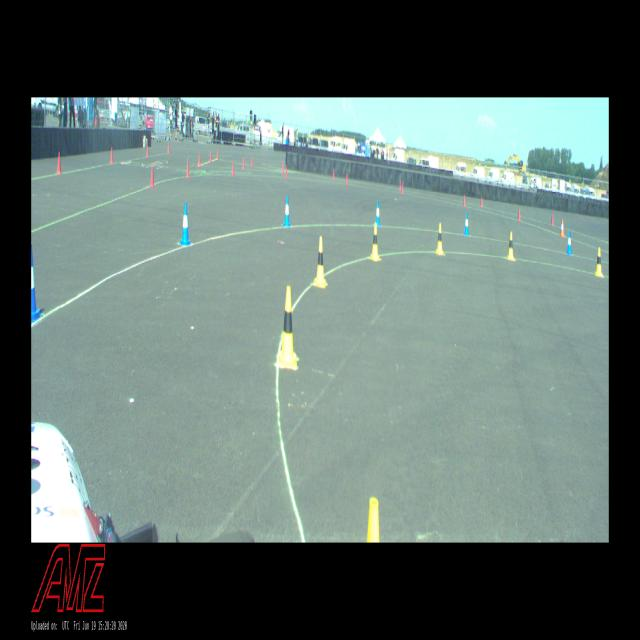blue_cone: (31, 244, 44, 324), (179, 202, 192, 246), (282, 195, 291, 227), (566, 231, 572, 255), (376, 200, 381, 227), (464, 212, 469, 236)
orange_cone: (559, 219, 565, 237)
unknown_cone: (56, 151, 62, 174), (150, 165, 155, 188), (186, 160, 190, 178), (110, 147, 114, 164), (197, 152, 201, 167), (232, 161, 236, 176), (518, 208, 522, 222), (242, 156, 245, 170), (285, 165, 288, 179), (551, 212, 554, 225), (480, 195, 483, 208), (463, 194, 466, 207), (332, 168, 335, 181), (146, 144, 149, 157), (251, 155, 254, 167), (401, 182, 404, 194), (167, 142, 170, 153), (217, 150, 220, 160), (346, 172, 348, 185), (282, 161, 284, 174), (210, 151, 212, 163), (399, 178, 401, 190)
yellow_cone: (275, 286, 297, 369), (313, 236, 327, 288), (367, 498, 380, 542), (370, 222, 380, 261), (436, 223, 444, 255), (595, 247, 603, 276), (506, 232, 514, 260)
